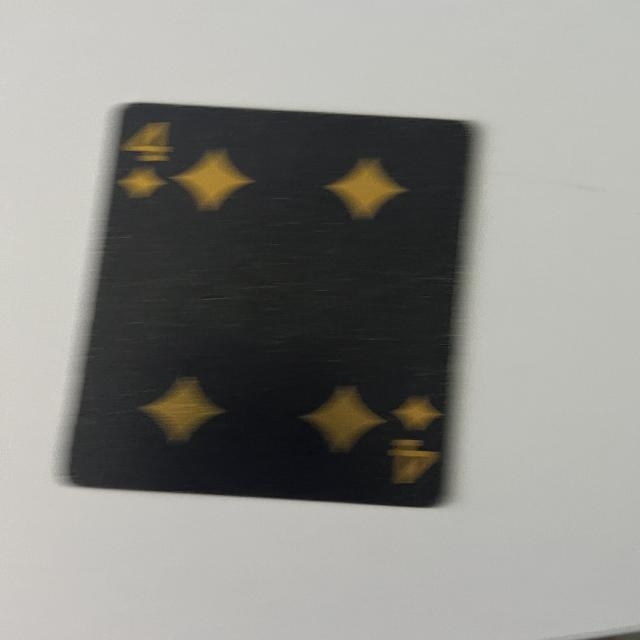4D: (388, 390, 438, 497), (121, 116, 180, 202)
